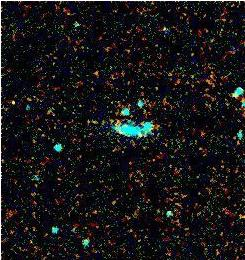star: (0, 89, 27, 119)
